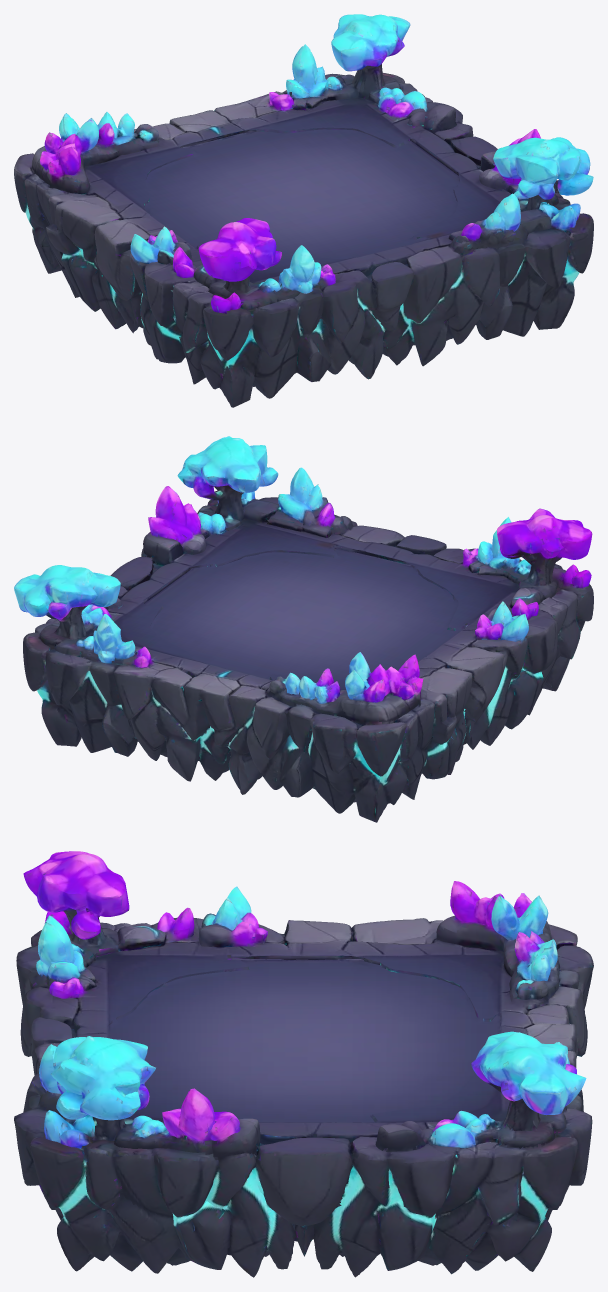
Rendered from land.glb.
3 renders of one model, top to bottom at view 1: azimuth 30°, elevation 25°; view 2: azimuth 150°, elevation 25°; view 3: azimuth 270°, elevation 25°, orthographic. The views are drawn at different scales.
Visible parts, largest first — view 1: output; view 2: output; view 3: output.
Boxes of the visible parts, <box> form: output: <box>14,14,593,407</box>; output: <box>14,436,593,822</box>; output: <box>14,851,593,1277</box>.
Bounding box in the file's own units: 1.91 × 0.9201 × 1.91.
Materials: 1 (1 with a texture image).
